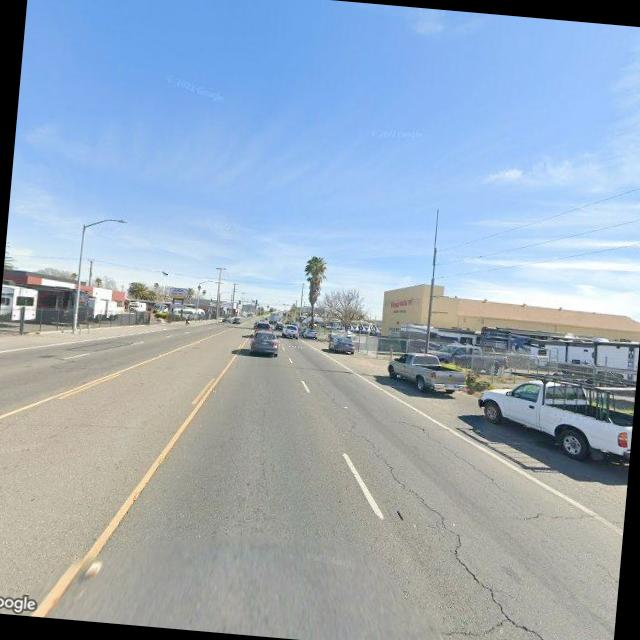crack: (321, 416, 583, 640), (402, 419, 512, 491), (510, 502, 594, 528)
